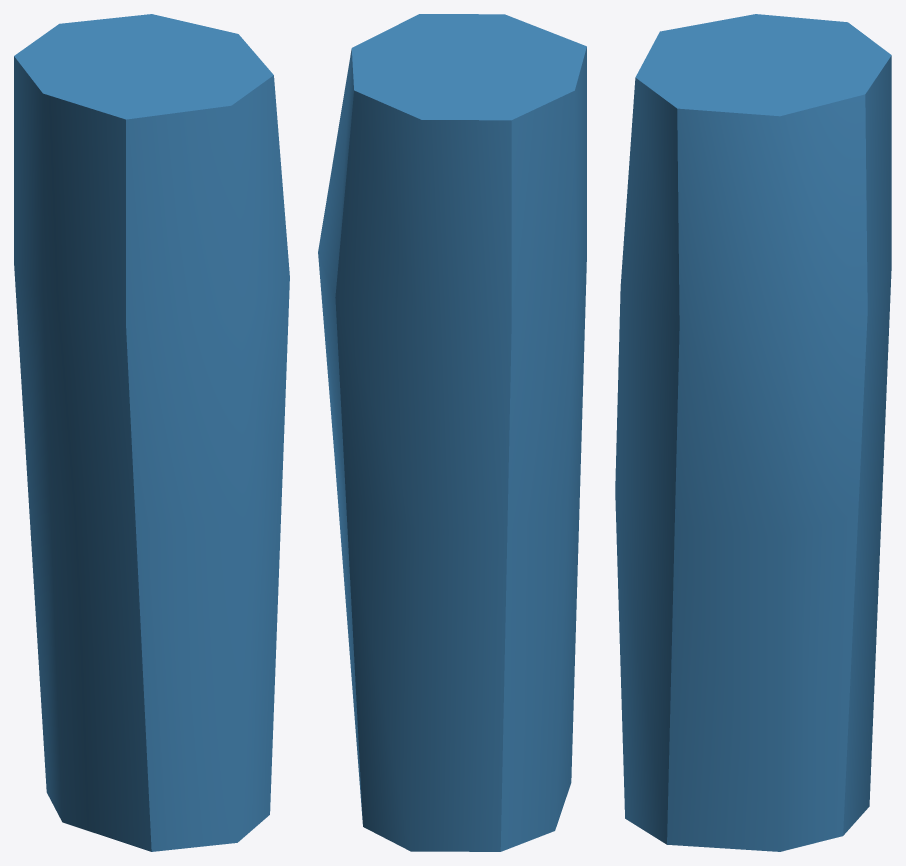
File: Driver_Leg_02A.fbx
3 renders of one model, left to right at view 1: azimuth 30°, elevation 25°; view 2: azimuth 150°, elevation 25°; view 3: azimuth 270°, elevation 25°, orthographic.
Parts seen in each view (by area): view 1: Driver_Leg_02A; view 2: Driver_Leg_02A; view 3: Driver_Leg_02A.
Part boxes in pixels (<box>): Driver_Leg_02A: <box>14,14,289,851</box>; Driver_Leg_02A: <box>318,14,586,851</box>; Driver_Leg_02A: <box>615,14,891,851</box>.
Size of the model in its own units: 17.02 by 49.99 by 16.92.
